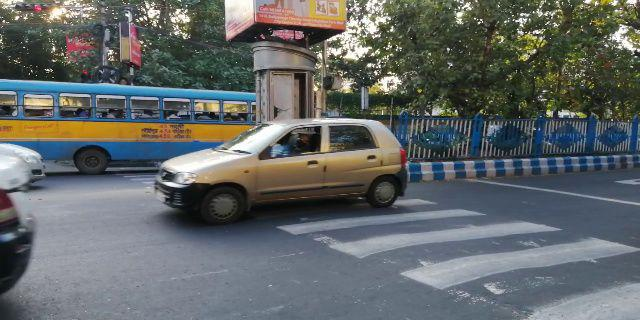Bus: (1, 77, 256, 175)
Car: (150, 111, 412, 216)
